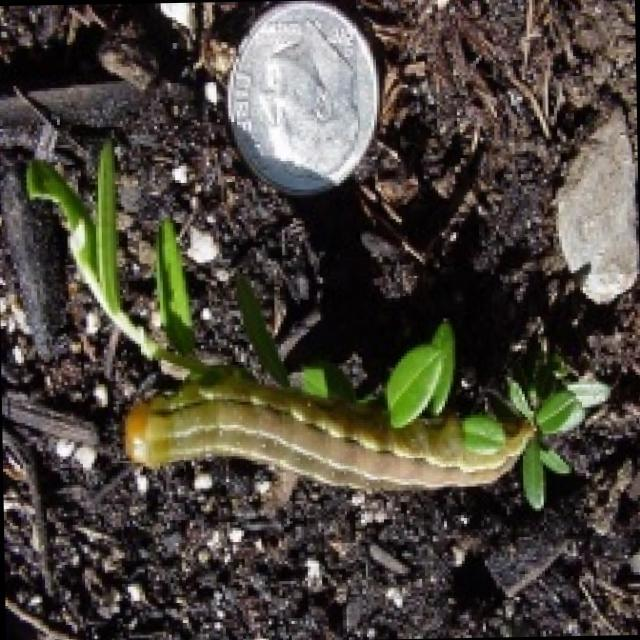Plaga: (99, 363, 553, 519)
